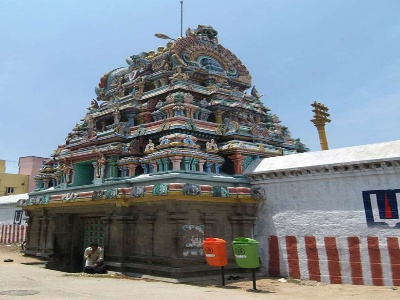gopura: (36, 37, 294, 175)
